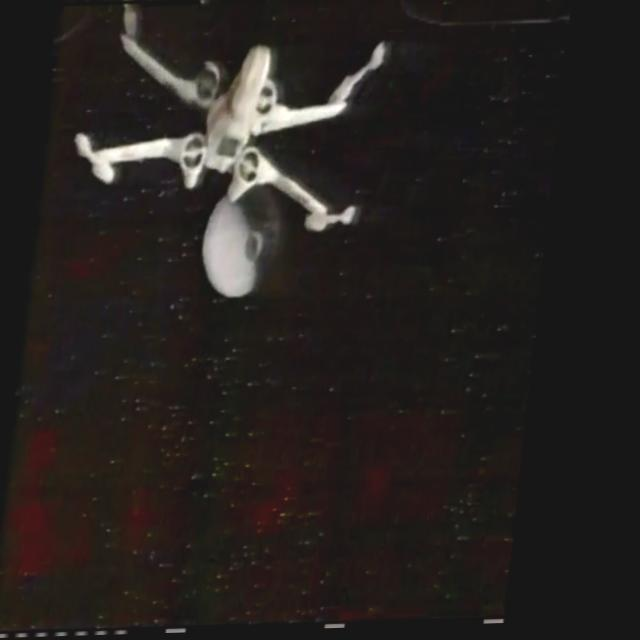deathStar: (205, 185, 292, 301)
